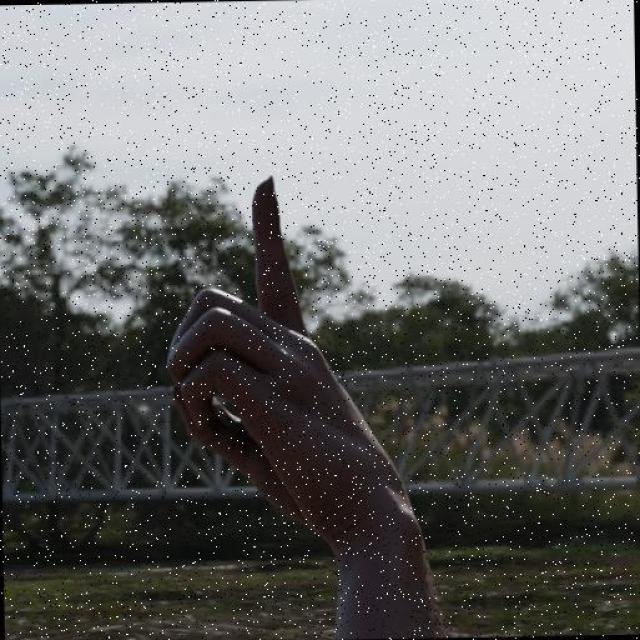D: (153, 168, 402, 550)
